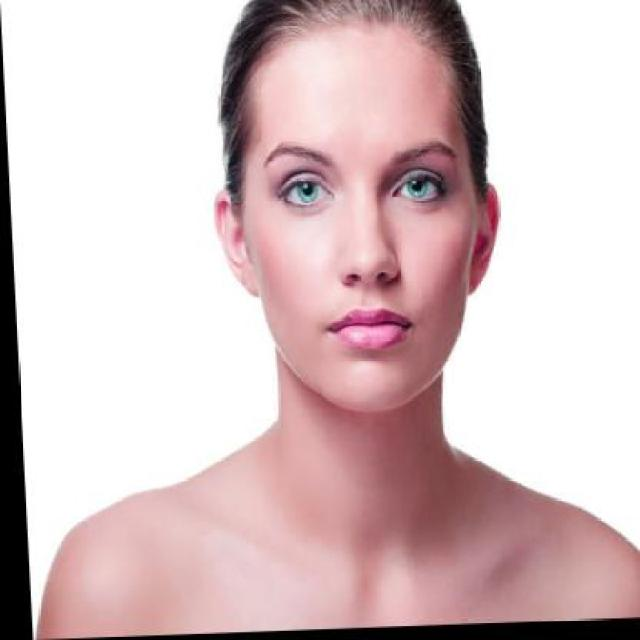Healthy: (282, 390, 442, 554)
